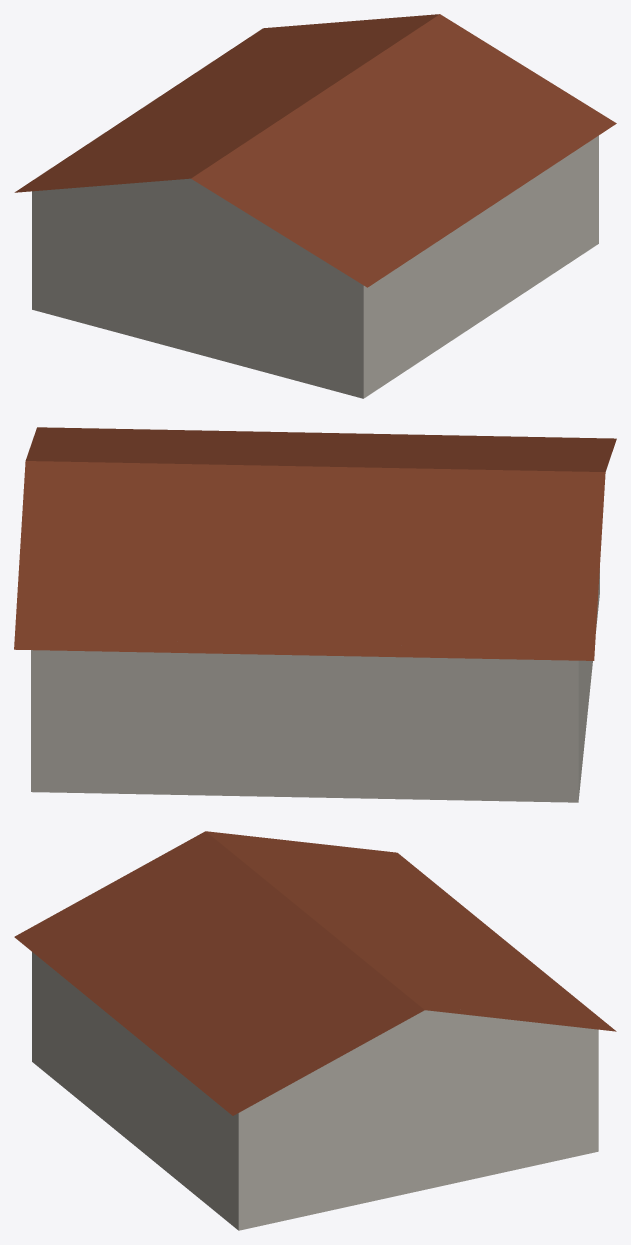
3 views of the same model, one above another, from view 1: azimuth 30°, elevation 25°; view 2: azimuth 150°, elevation 25°; view 3: azimuth 270°, elevation 25° (orthographic). The views are drawn at different scales.
Parts seen in each view (by area): view 1: buildings; view 2: buildings; view 3: buildings.
Part boxes in pixels (box(x1,y1,x2,y2)): buildings: box(14, 14, 616, 398); buildings: box(14, 427, 616, 802); buildings: box(14, 831, 616, 1230).
Bounding box in the file's own units: 13.86 × 4.57 × 13.41.
